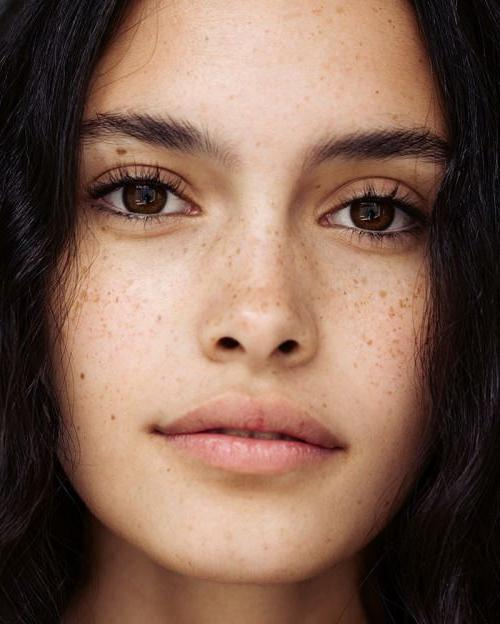Sober: (72, 29, 439, 501)
